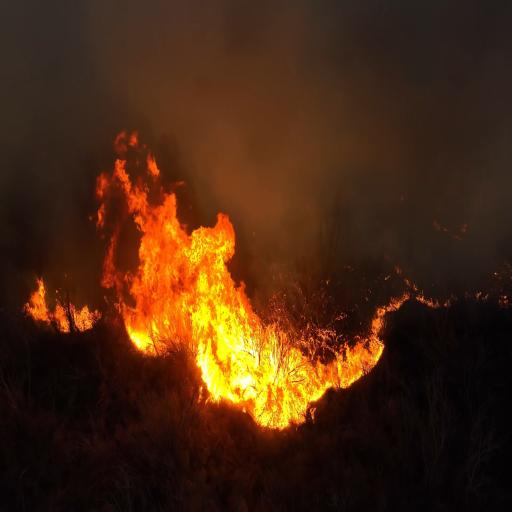fire: (98, 130, 220, 348), (202, 203, 324, 400), (329, 309, 380, 390), (31, 278, 96, 340)
smoke: (228, 0, 512, 144), (0, 0, 93, 251)
